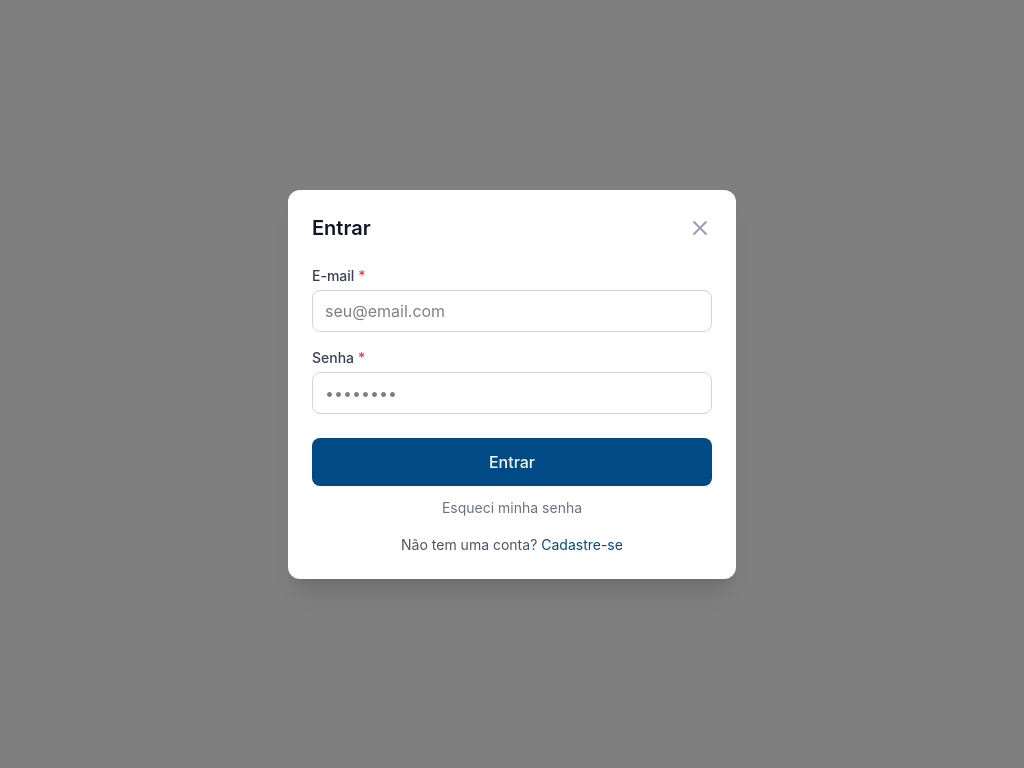
Test: AuthModal › shows error when passwords do not match
This screenshot has width=1024, height=768.
Click the button "Cadastre-se". click: point(582, 544)
box: [541,534,623,554]
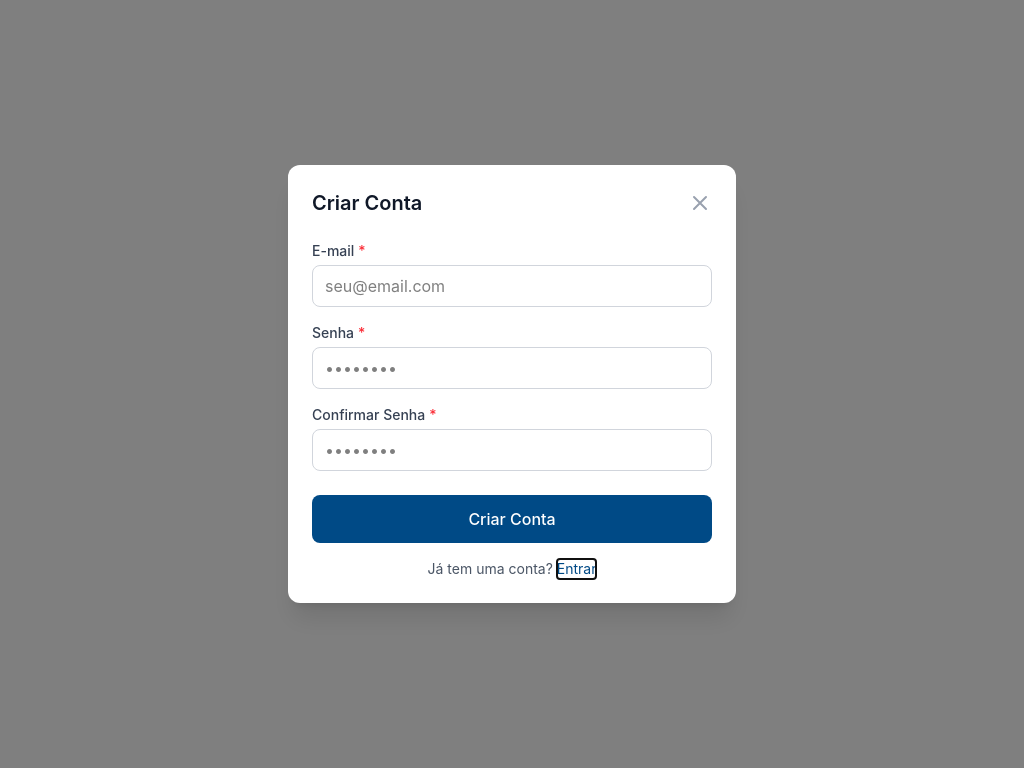
Type "test@email.com" into the field with placeholder "seu@email.com". click: point(512, 286)
box: [312,265,712,307]
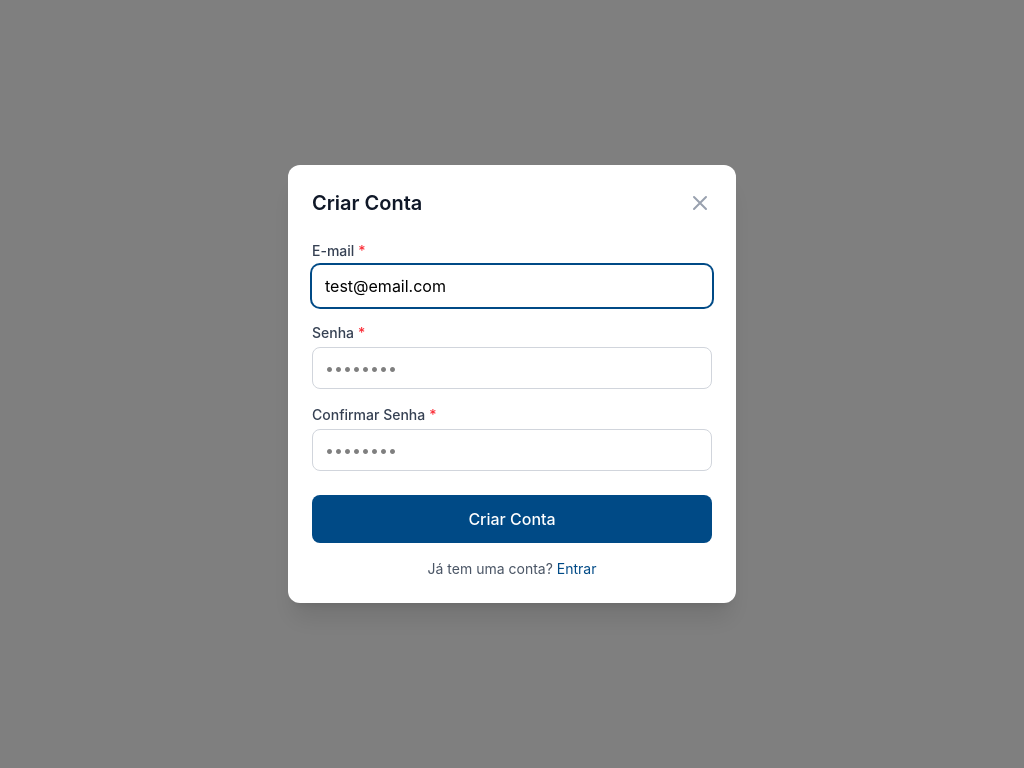
Type "password123" into the 1st password field with placeholder "••••••••". click: point(512, 368)
box: [312,347,712,389]
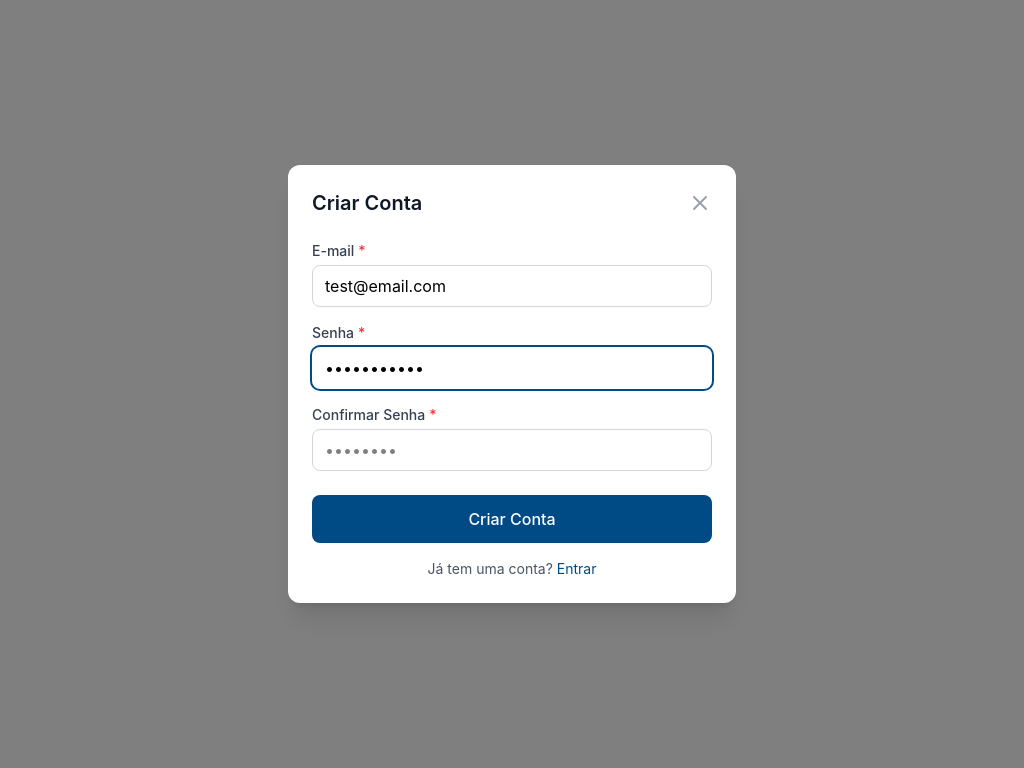
Type "differentpassword" into the password field with placeholder "••••••••". click: point(512, 450)
box: [312,429,712,471]
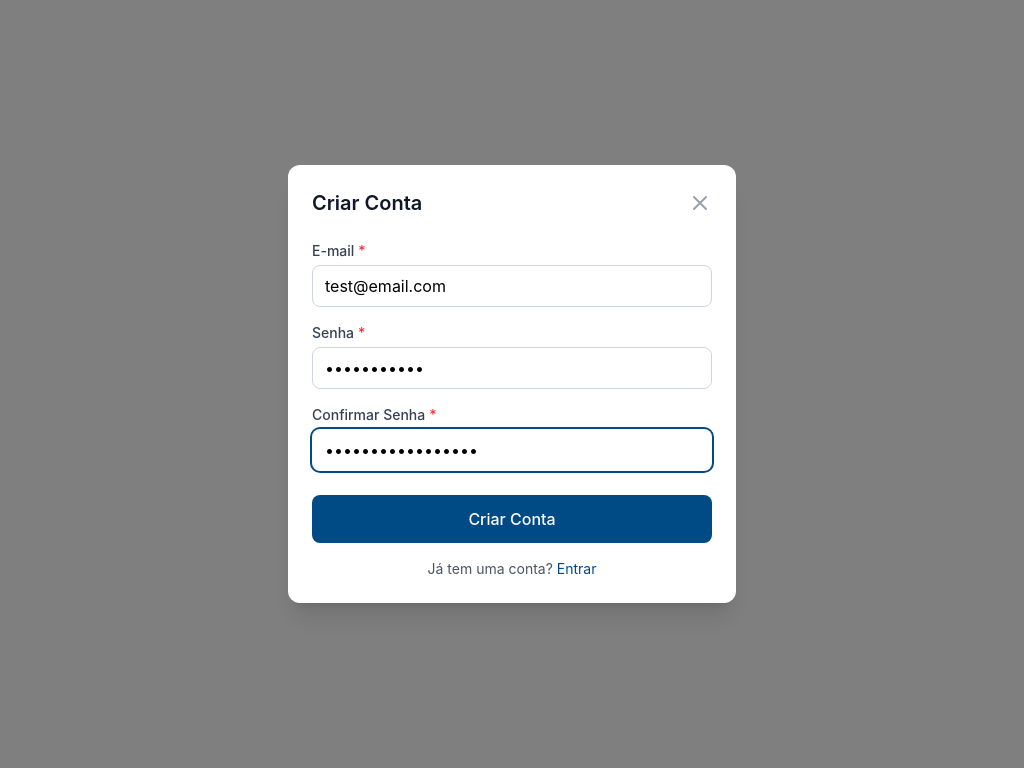
Click the button "Criar Conta". click: point(512, 519)
box: [312,495,712,543]
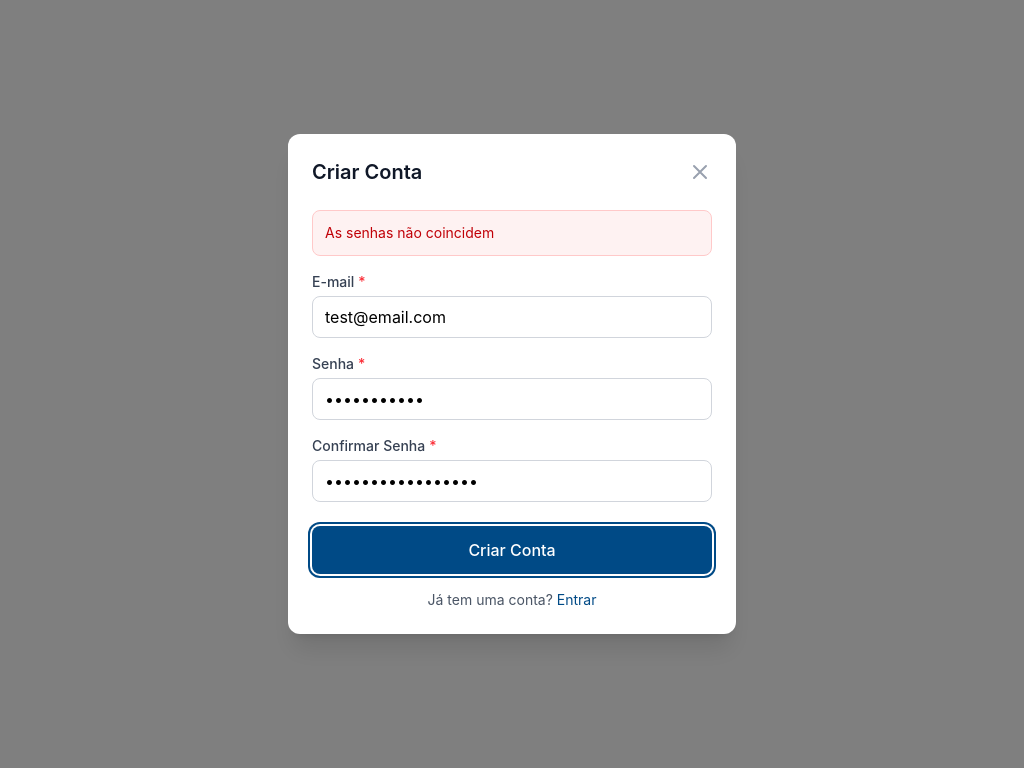
Expected: the text "As senhas não coincidem" is shown, [312,210,712,256]
